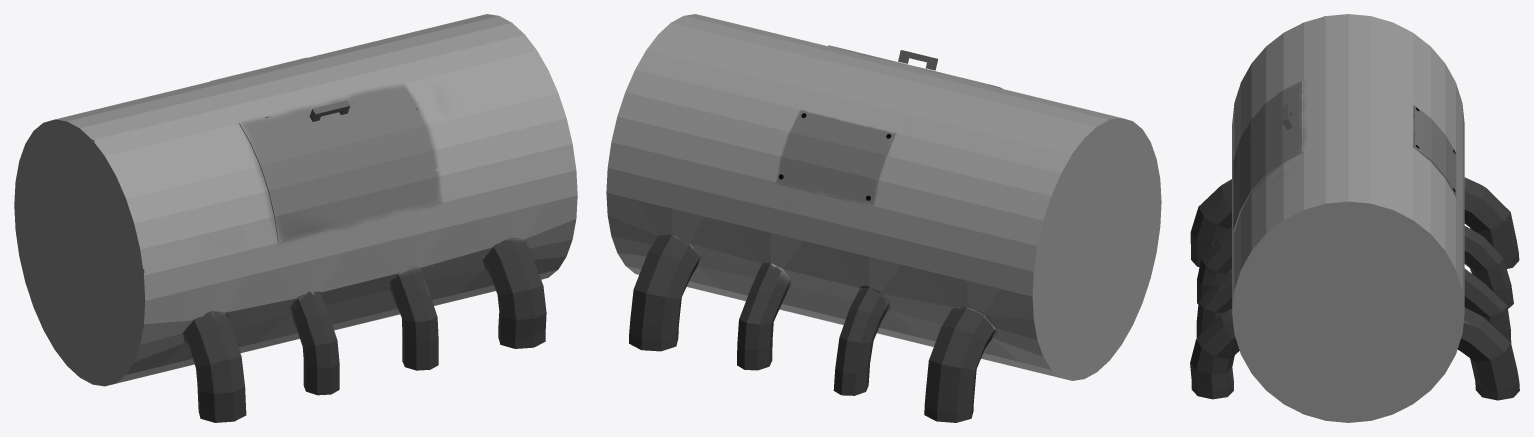
The model's file is pneumaticmachiner.fbx.
3 renders of one model, left to right at view 1: azimuth 30°, elevation 25°; view 2: azimuth 150°, elevation 25°; view 3: azimuth 270°, elevation 25°, orthographic. The views are drawn at different scales.
Visible parts, largest first — view 1: Cylinder; view 2: Cylinder; view 3: Cylinder.
Part boxes in pixels (box(x1,y1,x2,y2)): Cylinder: box(14, 14, 577, 422); Cylinder: box(606, 14, 1161, 422); Cylinder: box(1190, 14, 1519, 422).
Bounding box in the file's own units: 381 × 210 × 284.
Materials: 6 (1 with a texture image).
